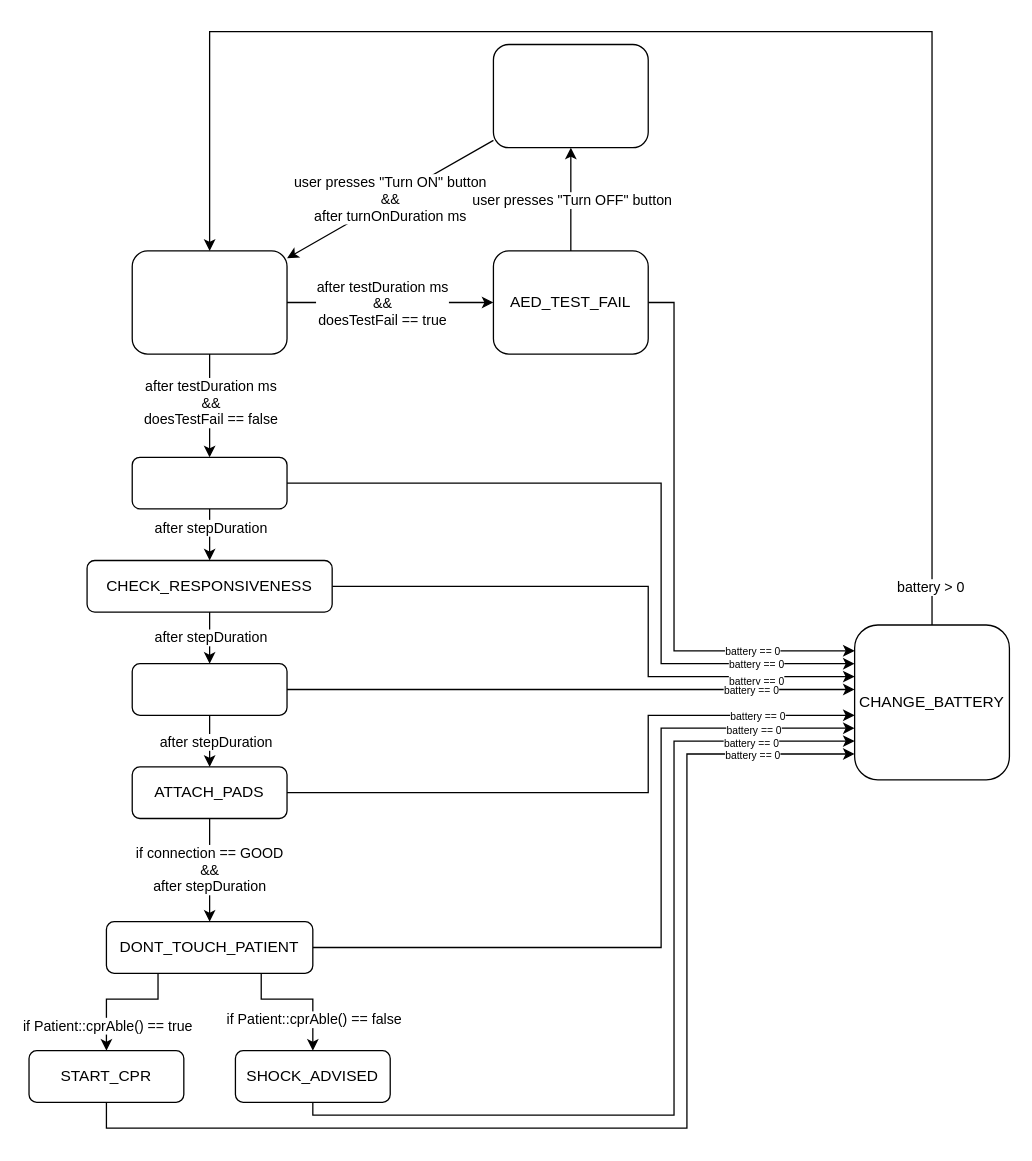
Some shapes in this 1032 by 1161 pixel diagram are drawn without their labels. The shapes that lost their labels are listed below. From the top down, each one's centre as x and y in pixels, then its label:
At (570,95): "AED_OFF".
At (209,302): "AED_ON".
At (209,482): "UNIT_OK".
At (209,688): "CALL_HELP".
